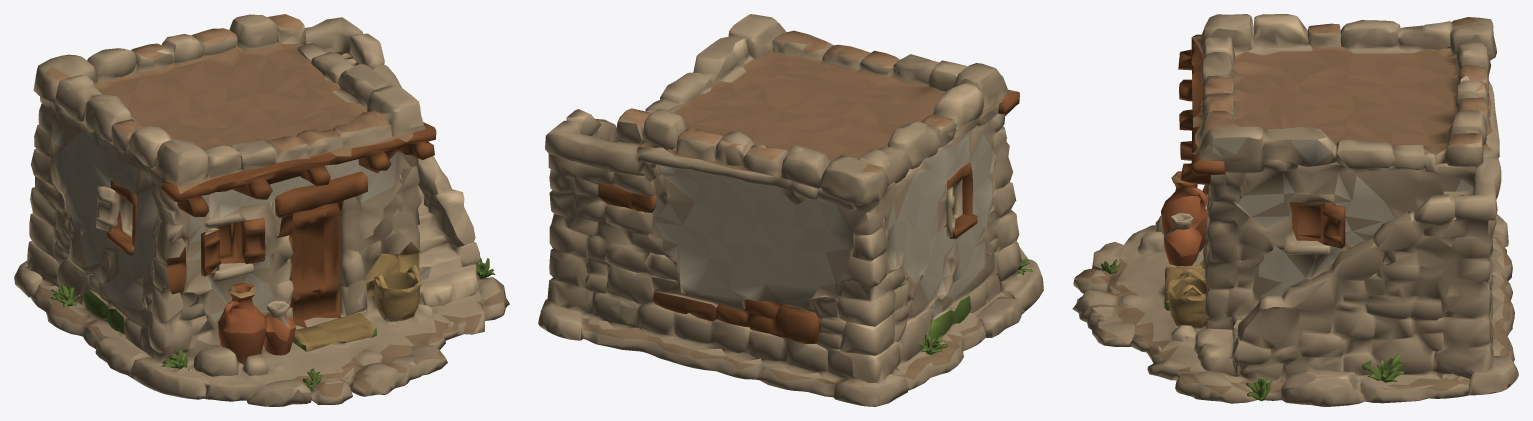
File: casa_cottage.glb
The picture shows the model from 3 angles, left to right: view 1: azimuth 30°, elevation 25°; view 2: azimuth 150°, elevation 25°; view 3: azimuth 270°, elevation 25°; orthographic projection. The views are drawn at different scales.
Parts seen in each view (by area): view 1: Casa_Cottage; view 2: Casa_Cottage; view 3: Casa_Cottage.
Boxes of the visible parts, left/top/right/bottom form: Casa_Cottage: left=14, top=14, right=509, bottom=406; Casa_Cottage: left=538, top=14, right=1043, bottom=406; Casa_Cottage: left=1072, top=14, right=1518, bottom=406.
Bounding box in the file's own units: 8.5 × 4.71 × 8.38.
